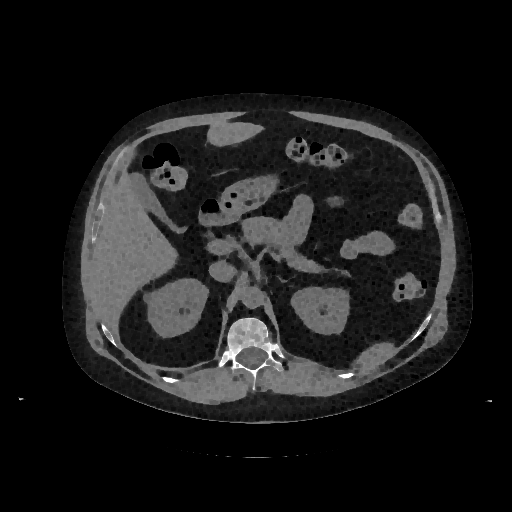Lesion: (138, 288, 154, 308)
